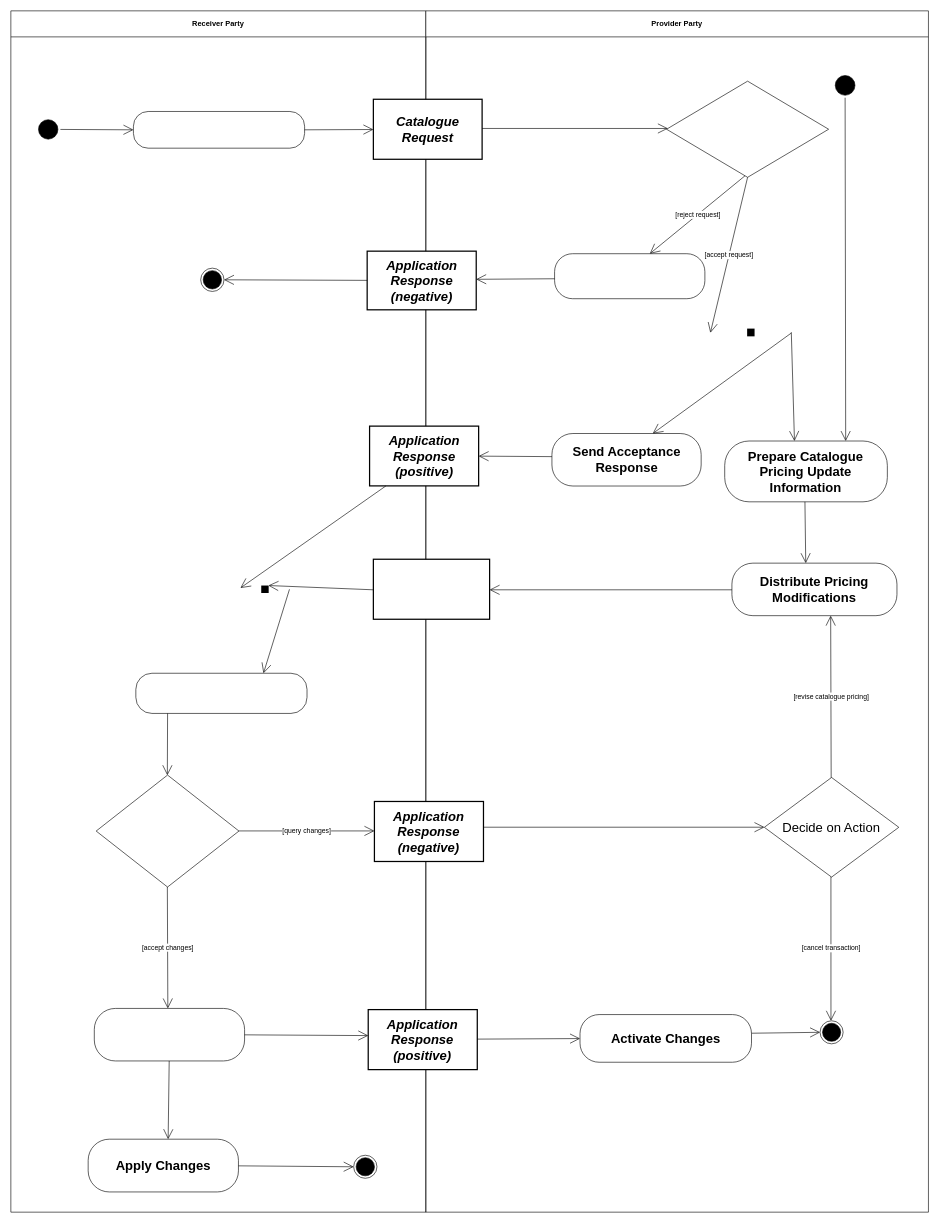
Image size: 939x1223. Some labels were removed from this diagram. The centre of each missing label's shape, as x and y in pixels:
"Acknowledge Acceptance" goes at point (169, 1034).
"Catalogue Pricing Update" goes at point (431, 589).
"Receive Pricing Update" goes at point (221, 693).
"Request Catalogue Update" goes at point (219, 129).
"Respond to Request" goes at point (747, 129).
"Review Pricing Details" goes at point (167, 830).
"Send Rejection" goes at point (629, 276).
